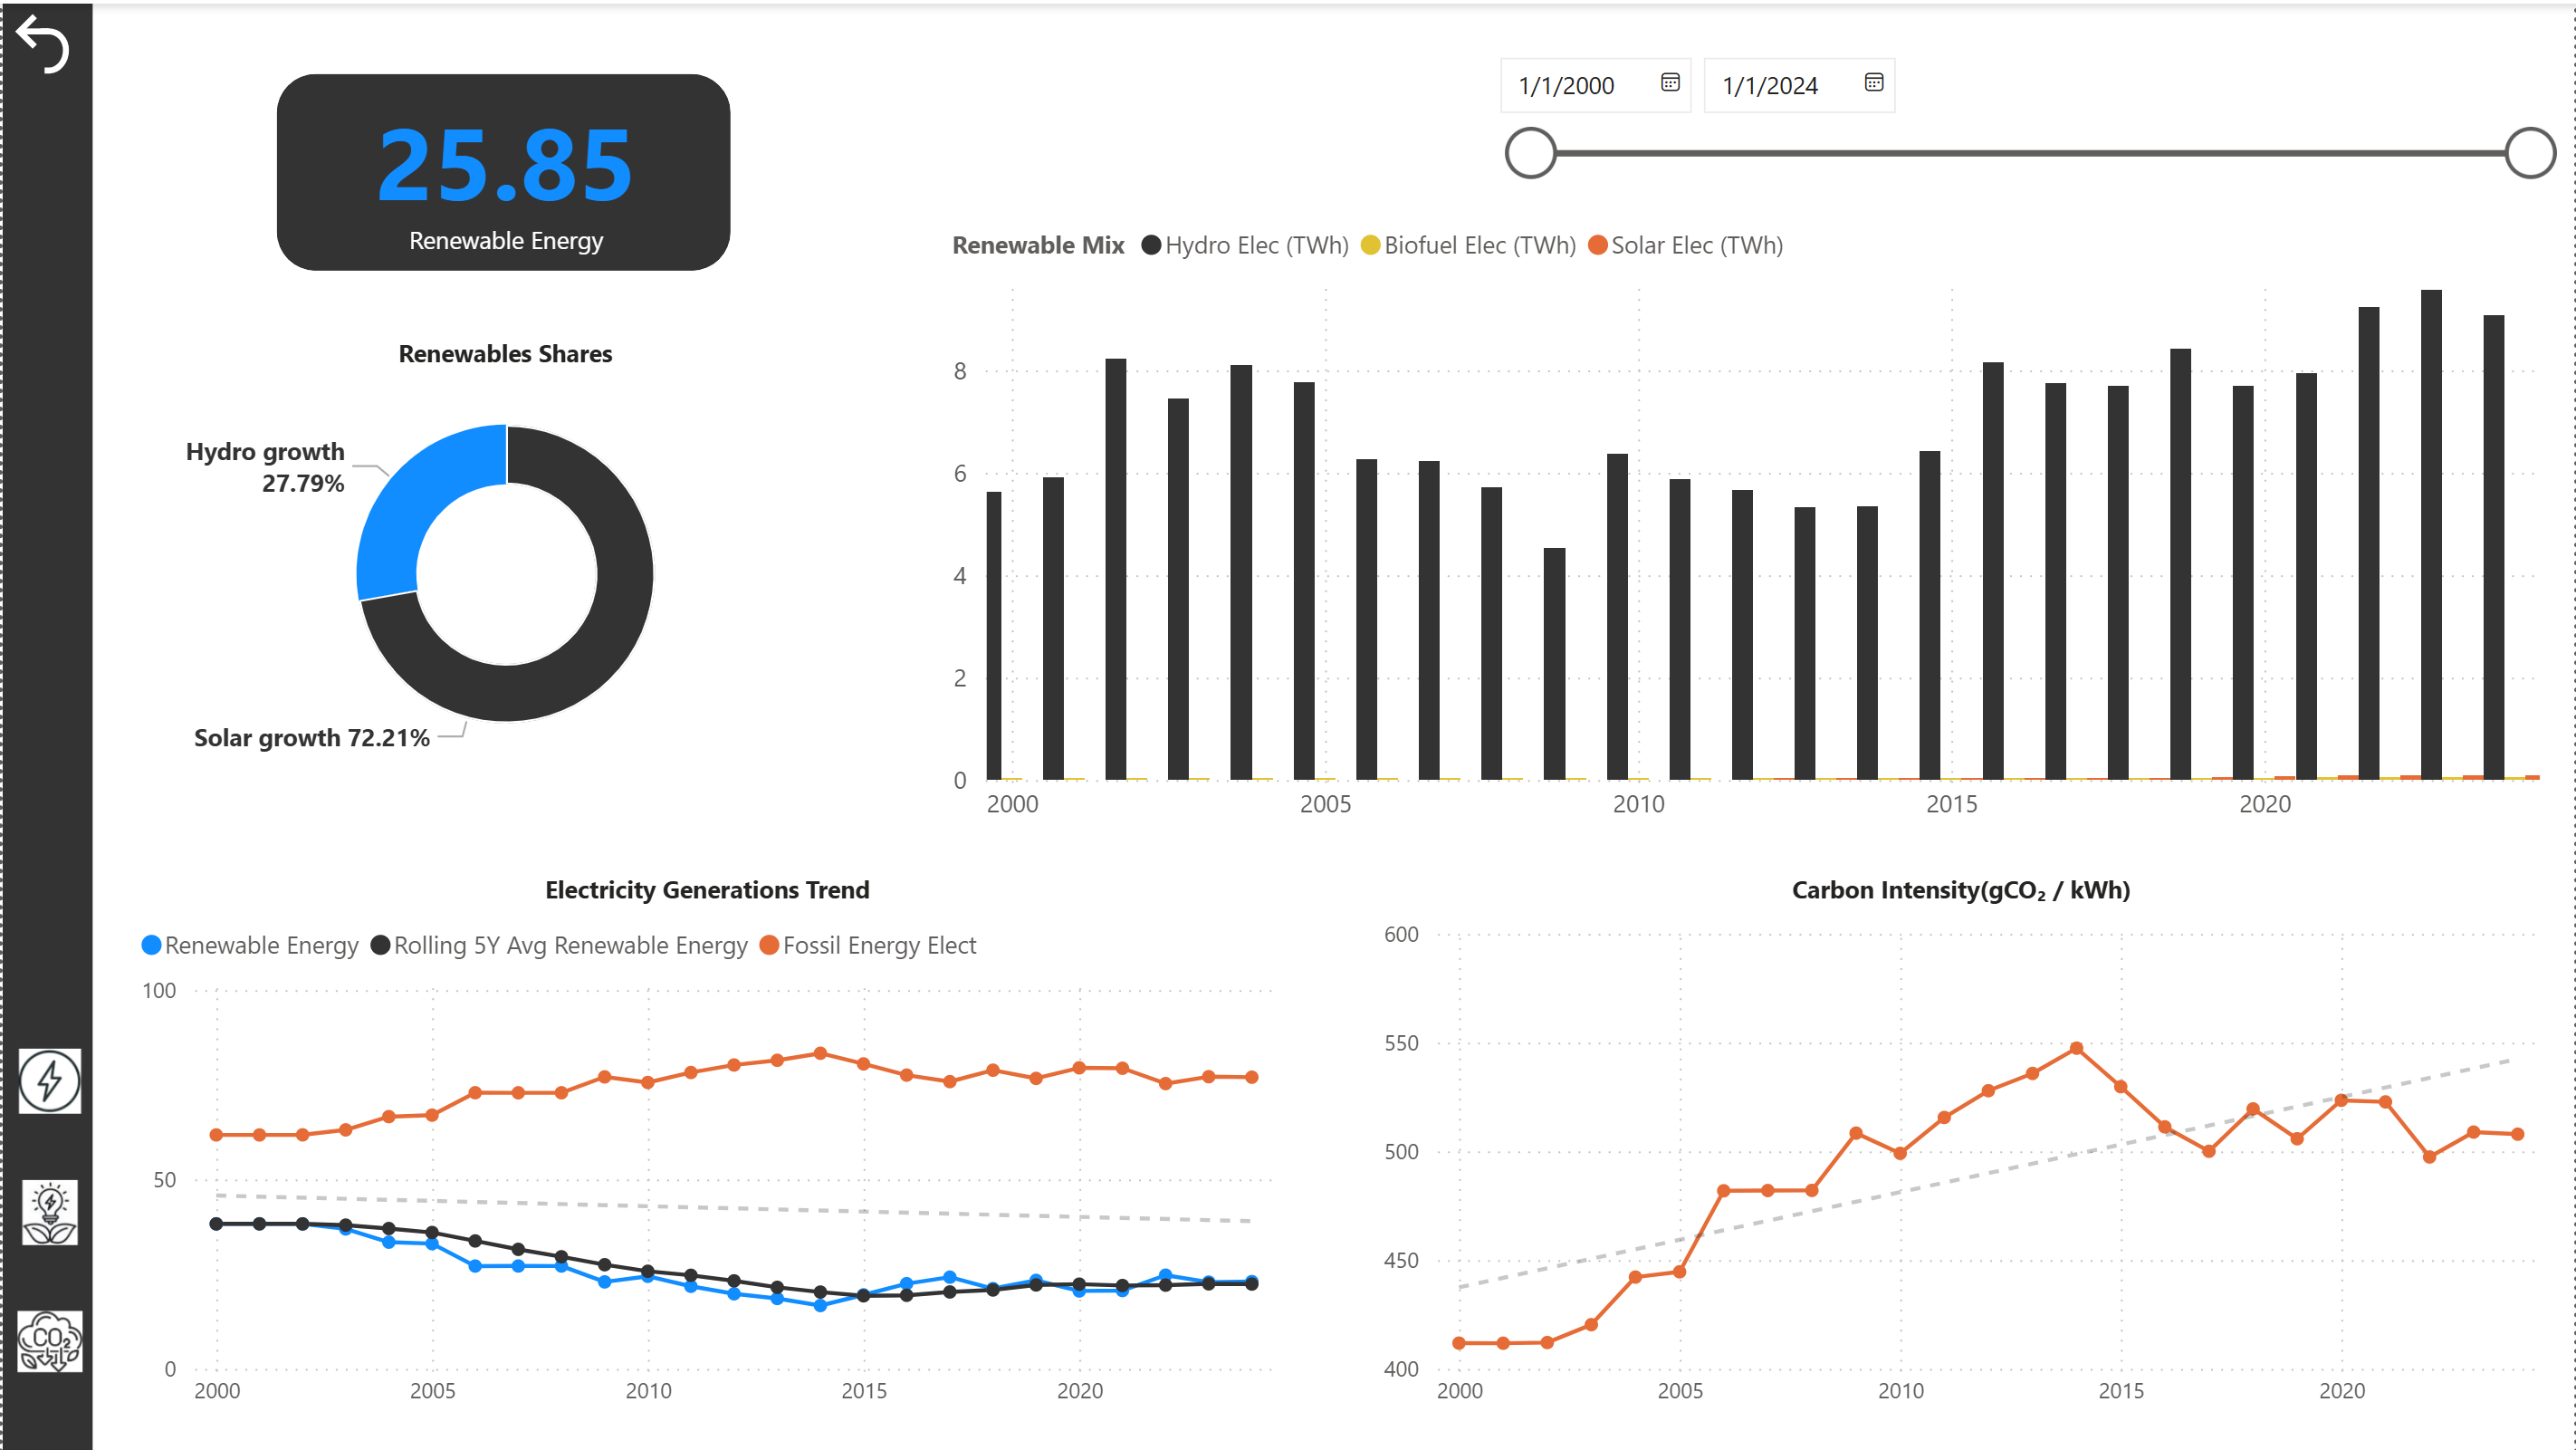

What the dashboard file says about the page in this screenshot:
{"tool":"powerbi","page":{"name":"Renewable Energy Transition","canvas":[1280,720],"ordinal":1},"visuals":[{"type":"shape","box":[0,0,44.8,720.3],"z":0},{"type":"clusteredColumnChart","fields":{"Category":["dim_year.year_date"],"Y":["Sum(v_combined_country_profile.hydro_elec_twh)","Sum(v_combined_country_profile.biofuel_elec_twh)","Sum(v_combined_country_profile.solar_elec_twh)"]},"box":[467.7,100.8,802.4,316],"z":1000},{"type":"actionButton","box":[3.6,516.5,44.7,40.4],"z":1000,"group":"g2"},{"type":"group","id":"g1","title":"KPI Card","box":[124.4,17.4,253.8,134.3],"z":2000},{"type":"actionButton","box":[3.6,581.4,44.7,40.4],"z":2000,"group":"g2"},{"type":"donutChart","title":"Renewables Shares","fields":{"Y":["Sum(v_combined_country_profile.solar_growth_pct)","Sum(v_combined_country_profile.hydro_growth_pct)"]},"box":[63.4,165.4,374.4,220.2],"z":3000},{"type":"actionButton","box":[3.6,646.3,44.7,40.4],"z":3000,"group":"g2"},{"type":"slicer","fields":{"Values":["dim_year.year_date"]},"box":[732.7,17.4,547.3,78.4],"z":4000},{"type":"lineChart","title":"Carbon Intensity(gCO₂ / kWh)","fields":{"Category":["dim_year.year_date"],"Y":["Measure Table.Avg Carbon Intensity"]},"box":[682.4,432.8,587.2,275.6],"z":5000},{"type":"shape","box":[137.2,35.9,226.1,98.1],"z":5500,"group":"g1"},{"type":"card","fields":{"Values":["Measure Table.Renewable Energy"]},"box":[124.4,17.4,253.2,135.1],"z":6000,"group":"g1"},{"type":"lineChart","title":"Electricity Generations Trend","fields":{"Category":["dim_year.year_date"],"Y":["Measure Table.Renewable Energy","Measure Table.Rolling 5Y Avg Renewable Share Elece","Measure Table.Fossil Elect"]},"box":[63.5,432.8,575.7,275.6],"z":6000},{"type":"actionButton","title":"Back Button","box":[0,0,44.8,39.8],"z":7000},{"type":"group","id":"g2","title":"Nav Buttons","box":[3.6,516.5,44.7,170.2],"z":8000}]}

Visuals, with their boxes on the page's 1280x720 design canvas (x1, y1, x2, y2). These are canvas units, not pixel positions in the 2576x1450 screenshot, which may show the page scaled, cropped or inside an application window:
shape: <bbox>0, 0, 45, 720</bbox>
clusteredColumnChart - dim_year.year_date x Sum(v_combined_country_profile.hydro_elec_twh): <bbox>468, 101, 1270, 417</bbox>
actionButton: <bbox>4, 516, 48, 557</bbox>
"KPI Card" group: <bbox>124, 17, 378, 152</bbox>
actionButton: <bbox>4, 581, 48, 622</bbox>
"Renewables Shares" donutChart: <bbox>63, 165, 438, 386</bbox>
actionButton: <bbox>4, 646, 48, 687</bbox>
slicer - dim_year.year_date: <bbox>733, 17, 1280, 96</bbox>
"Carbon Intensity(gCO₂ / kWh)" lineChart: <bbox>682, 433, 1270, 708</bbox>
shape: <bbox>137, 36, 363, 134</bbox>
card - Measure Table.Renewable Energy: <bbox>124, 17, 378, 152</bbox>
"Electricity Generations Trend" lineChart: <bbox>64, 433, 639, 708</bbox>
"Back Button" actionButton: <bbox>0, 0, 45, 40</bbox>
"Nav Buttons" group: <bbox>4, 516, 48, 687</bbox>
